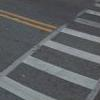Crosswalk: (17, 17, 100, 100)
